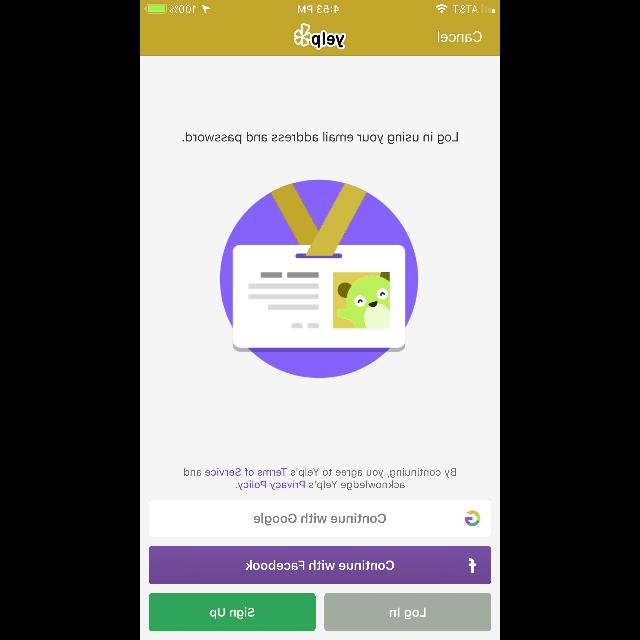image: (220, 180, 418, 378), (294, 24, 346, 51)
text: (184, 468, 456, 490), (182, 132, 458, 144), (437, 32, 481, 42)
textbutton: (149, 499, 491, 537), (149, 546, 491, 584), (324, 593, 492, 631), (148, 593, 316, 631)
uppertaskbar: (140, 0, 500, 14)
